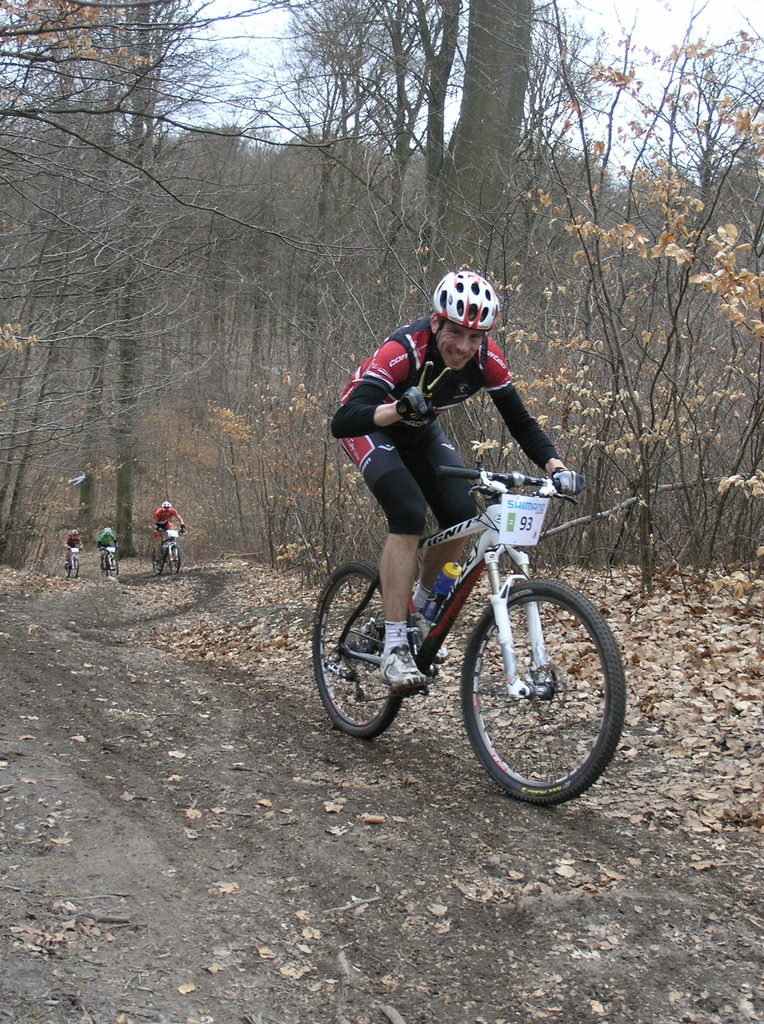Bike: (300, 471, 623, 809)
